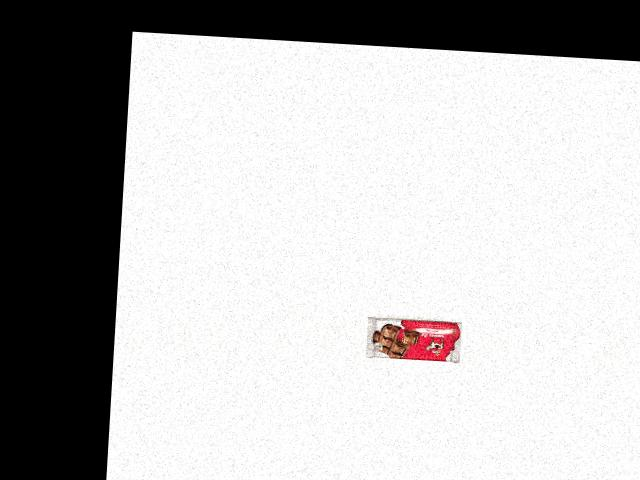chocolate: (364, 294, 479, 358)
